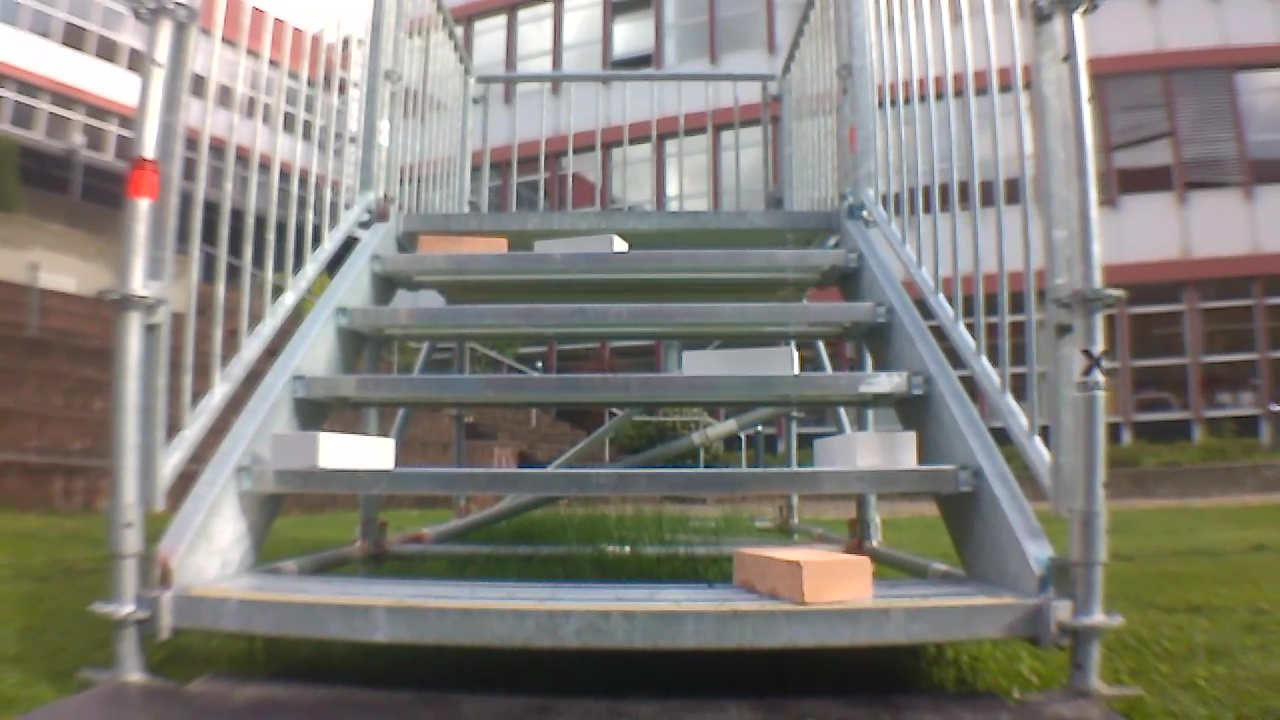brick: (732, 548, 872, 604), (272, 432, 396, 470), (812, 431, 916, 466), (684, 346, 797, 375), (420, 236, 507, 254), (534, 235, 626, 252)
edge: (175, 597, 1044, 646), (244, 466, 975, 496), (297, 371, 932, 397), (340, 301, 894, 322), (371, 249, 862, 268), (403, 210, 838, 229)
stairs: (163, 207, 1057, 667)
